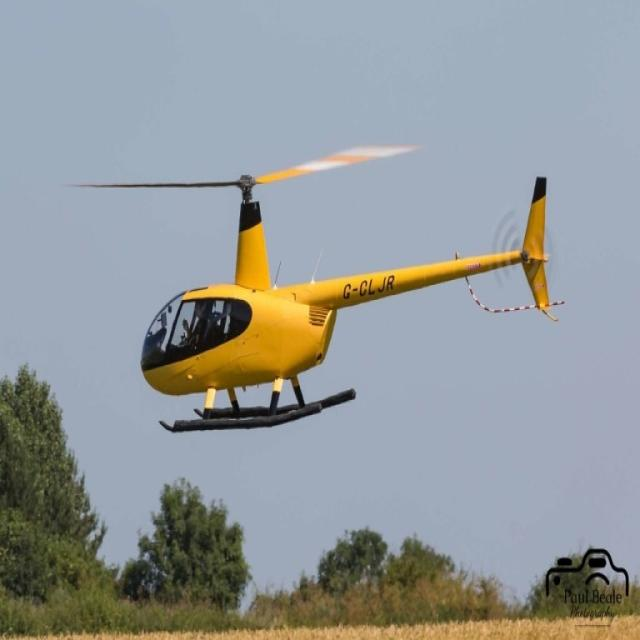CIV_HELO: (136, 170, 555, 441)
